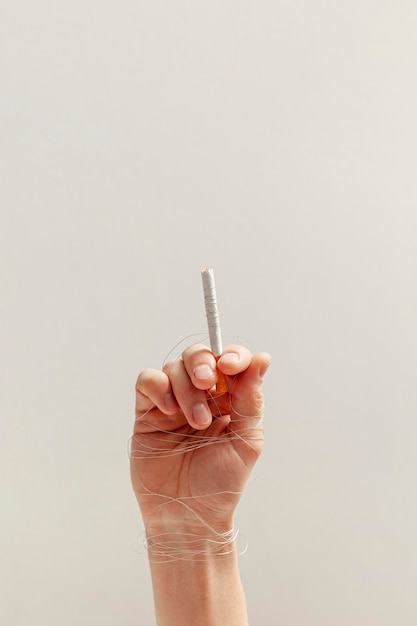cigarette: (197, 267, 231, 397)
